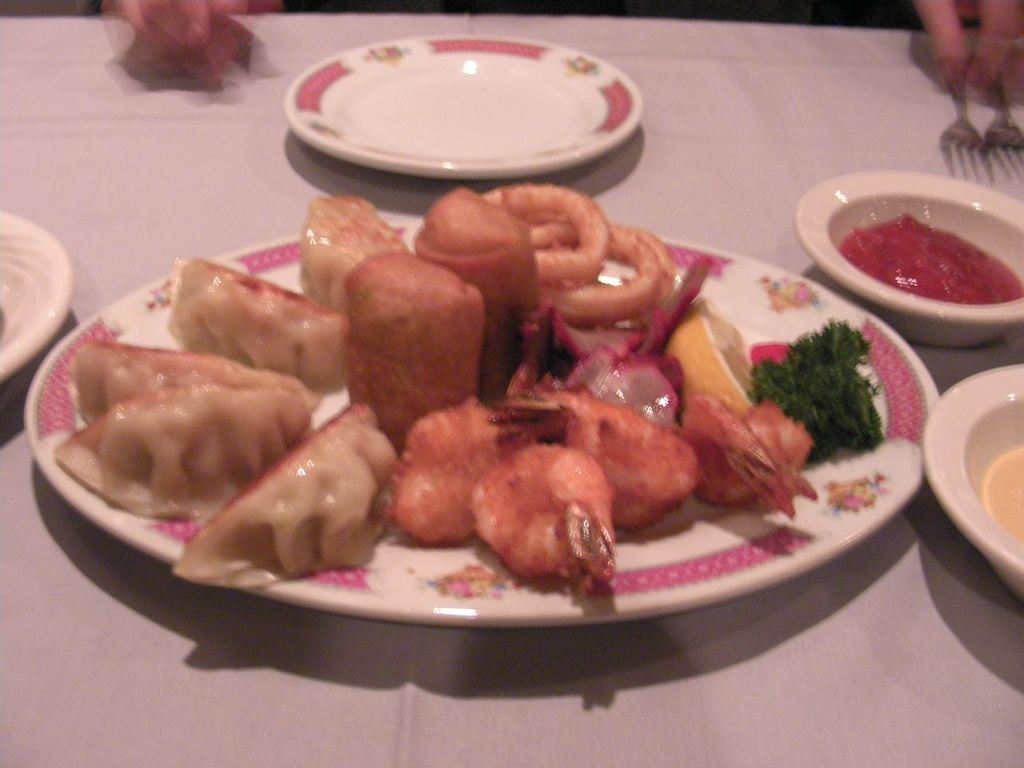plate: (289, 36, 622, 152)
